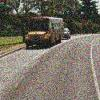buses: (24, 16, 64, 49)
